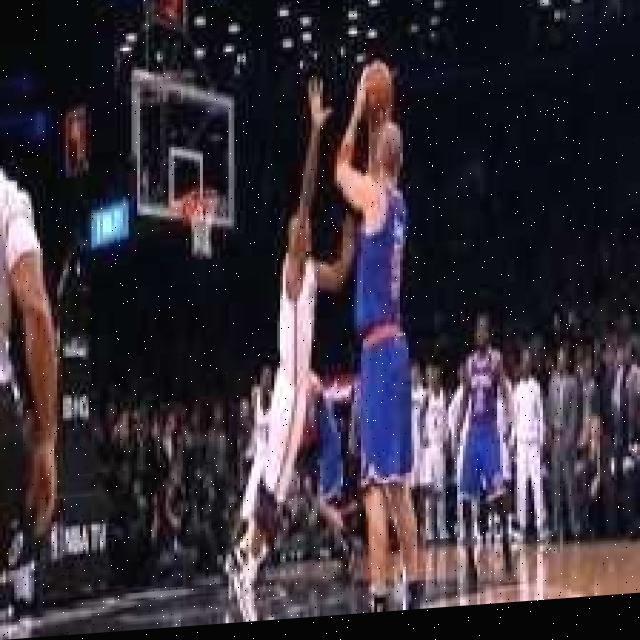basketball: (360, 61, 394, 123)
hoop: (177, 186, 226, 261)
